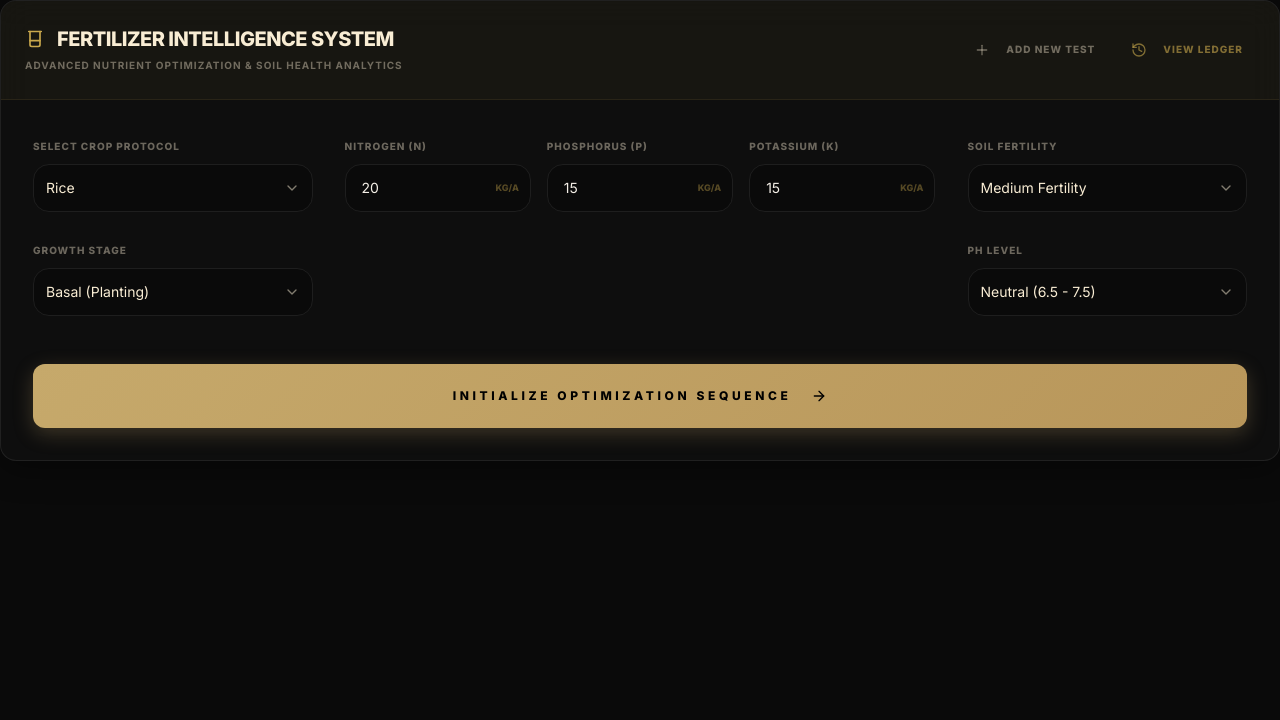
Test: FertilizerAnalysisModule - Integration and Regression Tests › safely renders historical ledger items even if resultJson is malformed or already parsed
The width and height of the screenshot is (1280, 720).
Click View Ledger
What coordinates should you click on to do the following:
click the button "View Ledger"
I would click on:
 (1187, 50)
Its box is [1119,32,1255,68].
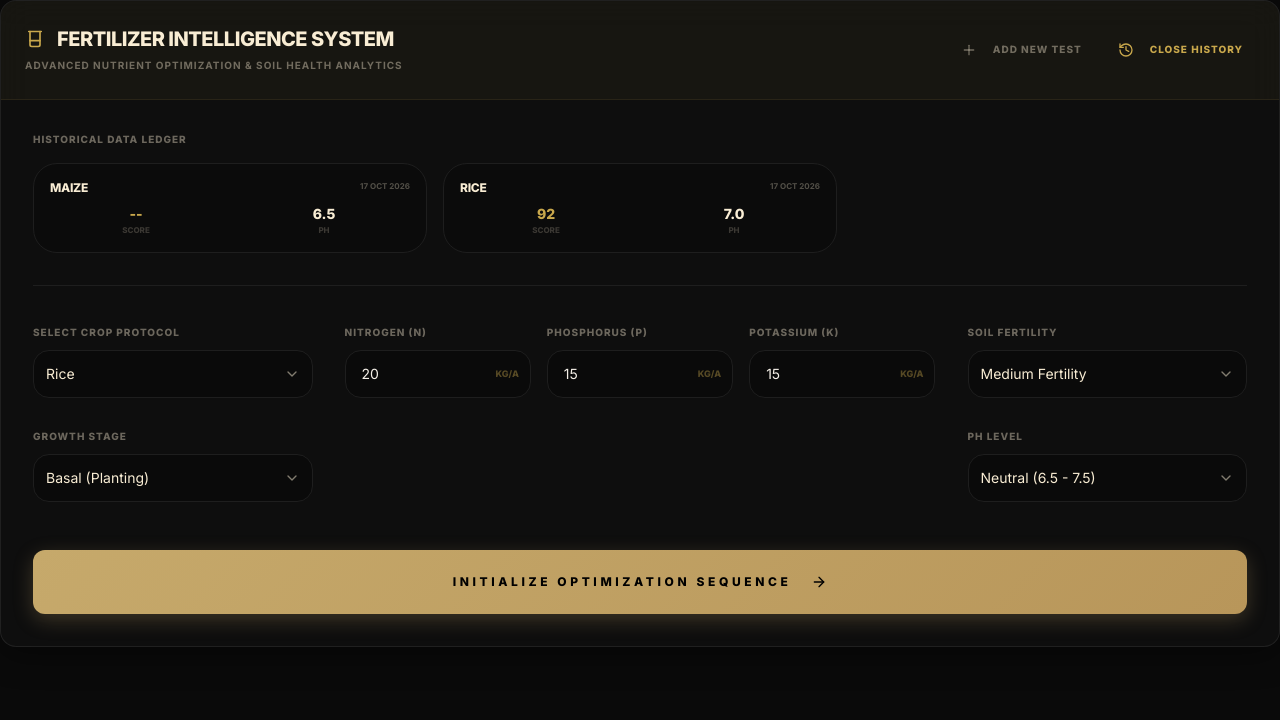
Check: the heading "Historical Data Ledger" is shown, box [33,132,187,144]
Check: the text "maize" is shown, box [50,180,88,196]
Check: the text "rice" is shown, box [460,180,486,196]
